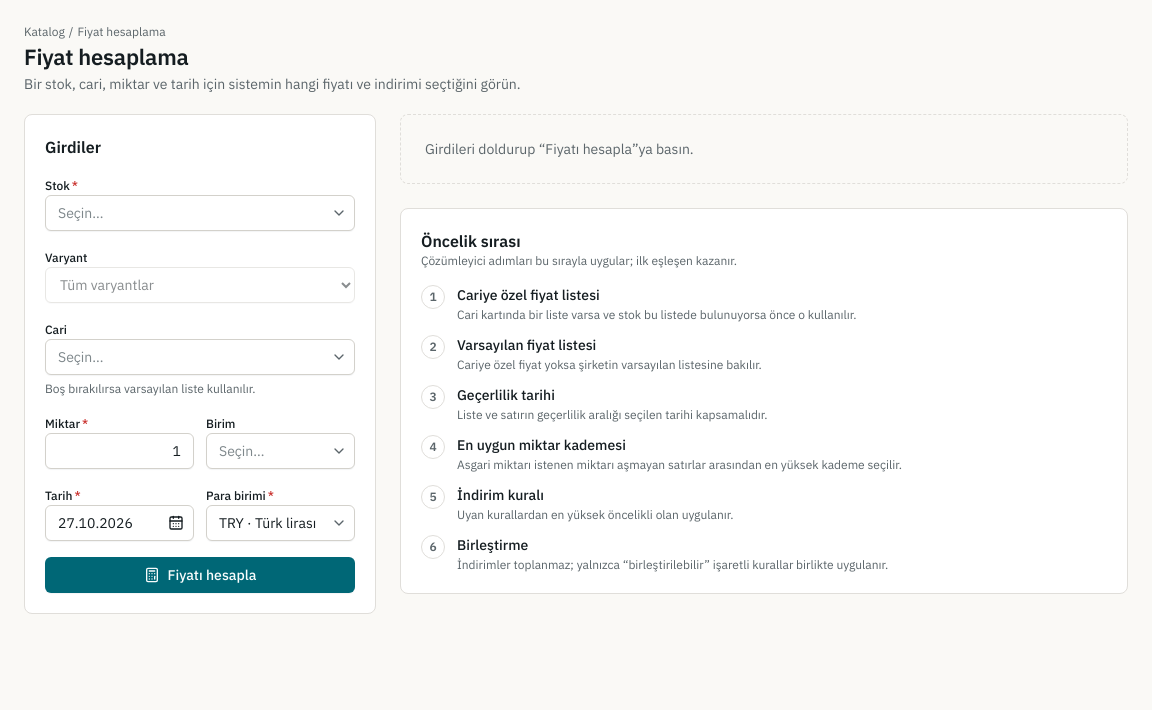
Test: PricingPlaygroundPage › resolves a price and explains the precedence
In the dropdown labelled "Stok*": (200, 213) top-left (45, 195), bottom-right (355, 231), type "Cıvata"
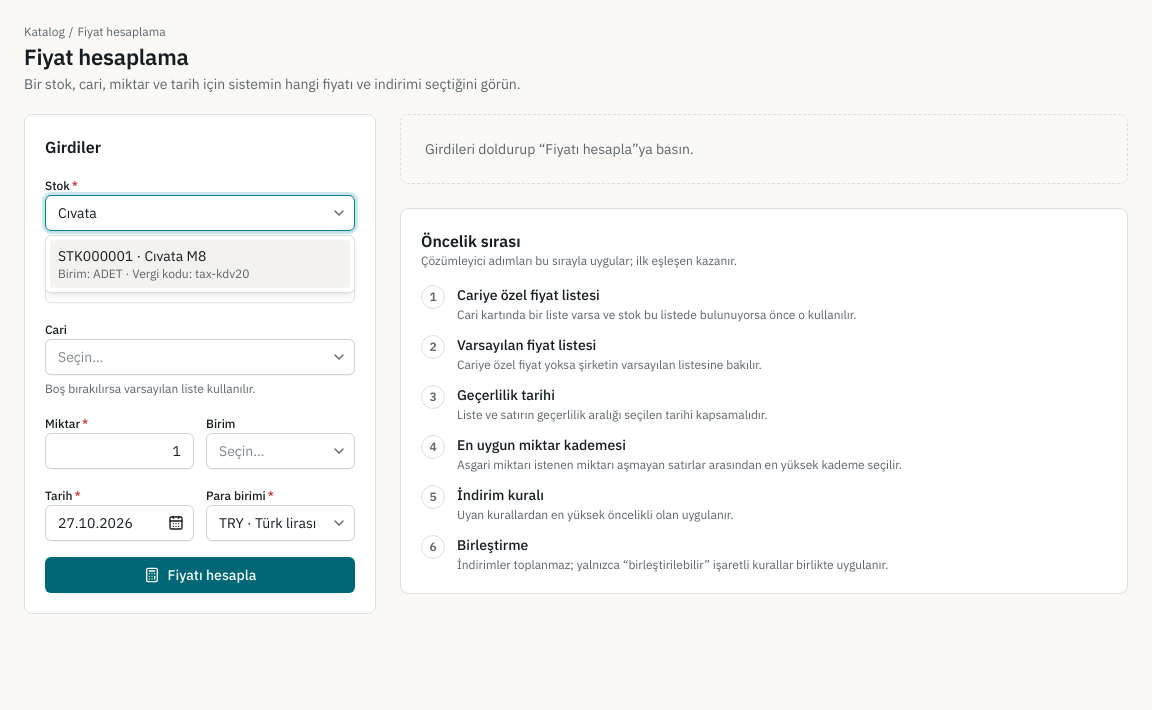
Click the option "STK000001 · Cıvata M8 Birim: ADET · Vergi kodu: tax-kdv20": (200, 264) top-left (50, 240), bottom-right (350, 288)
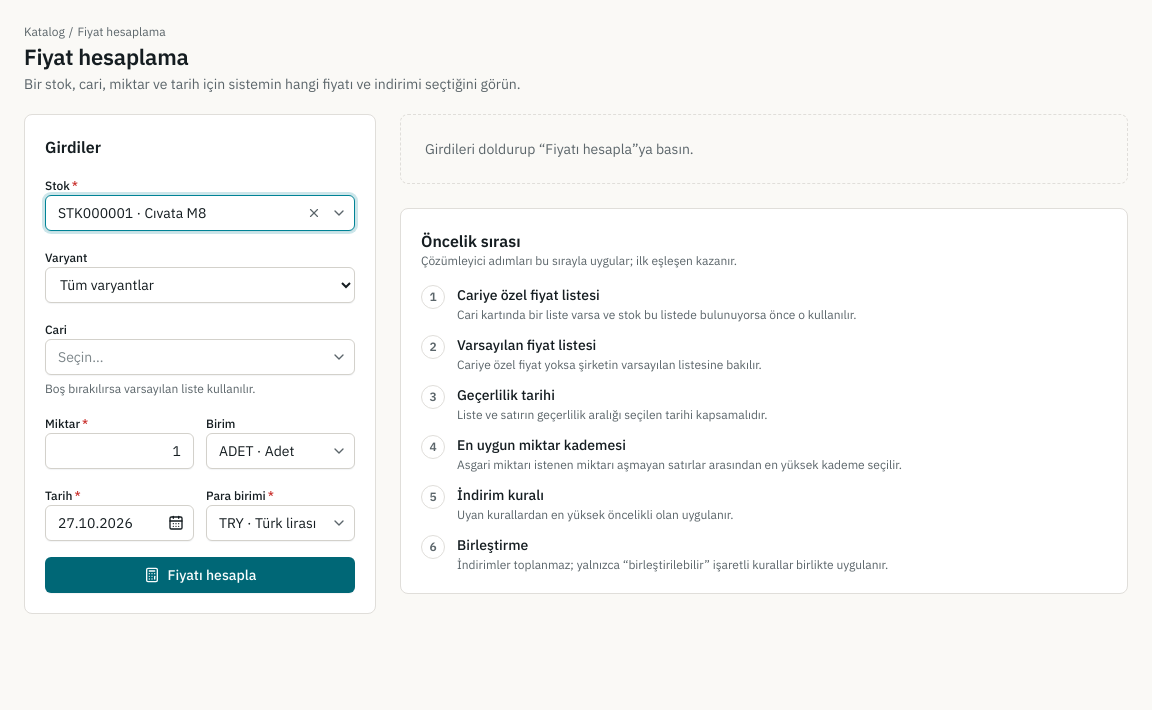
Replace the text in the field labelled "Miktar*" with "120": (120, 451) top-left (45, 433), bottom-right (194, 469)
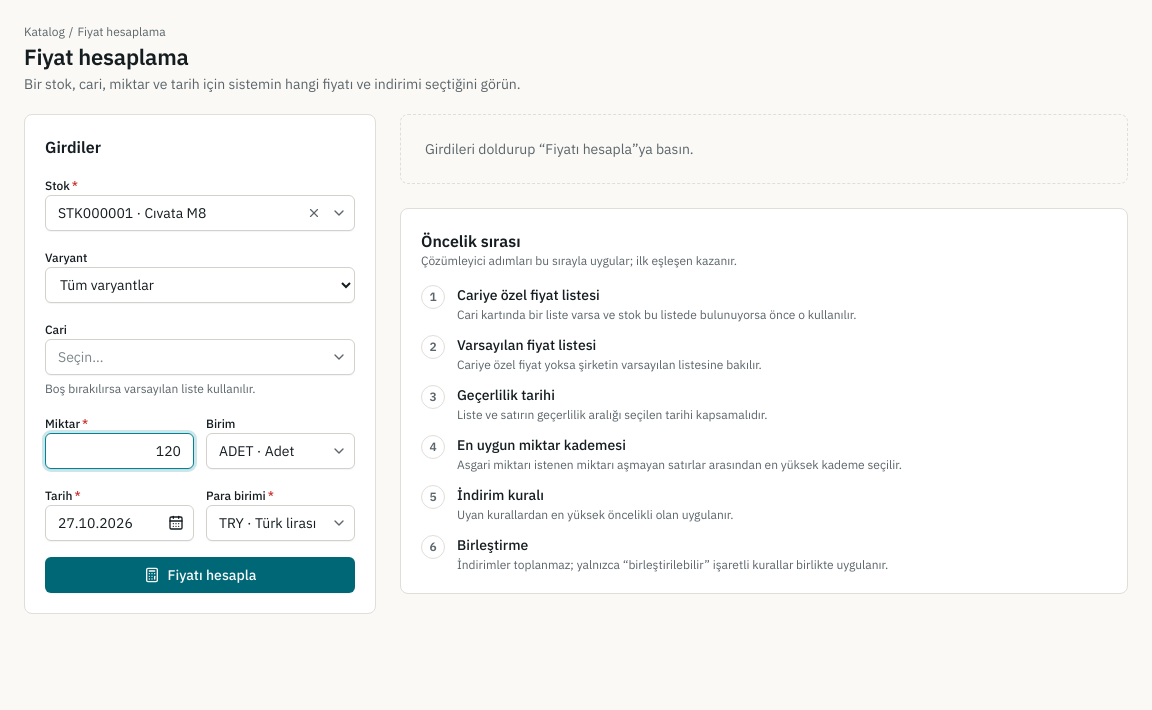
Click the button "Fiyatı hesapla": (200, 575) top-left (45, 557), bottom-right (355, 593)
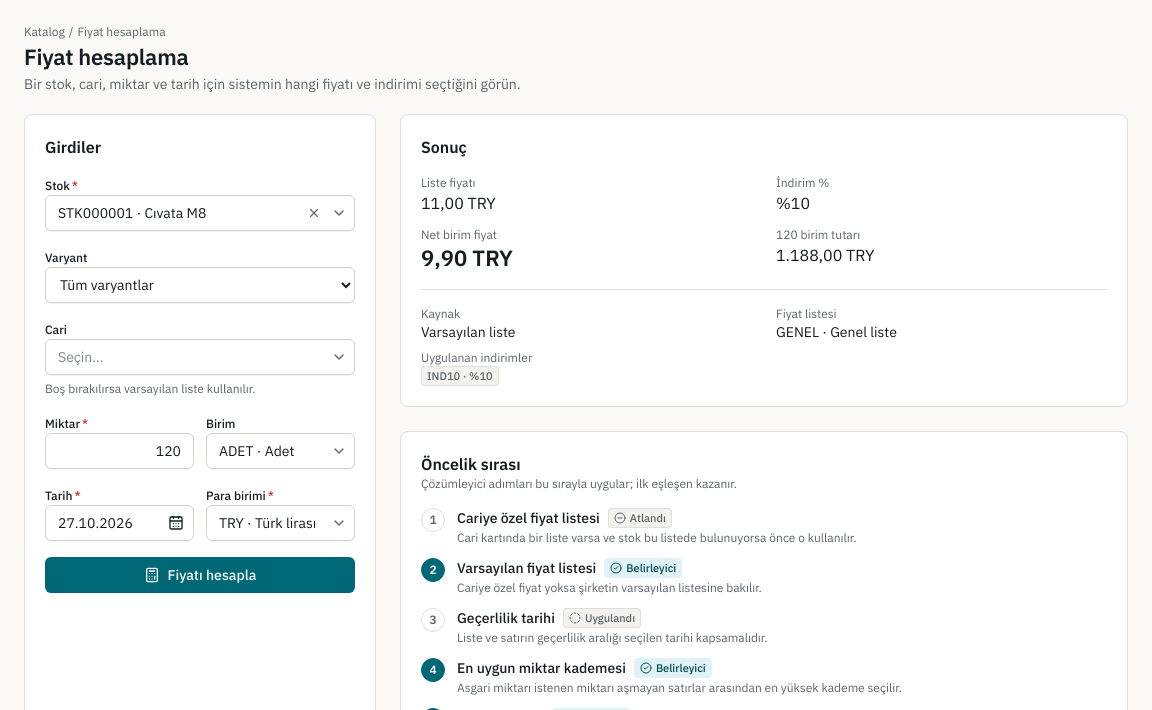
Result: the text "11,00 TRY" is shown at top-left (421, 193), bottom-right (496, 213)
Result: the text "%10" is shown at top-left (776, 193), bottom-right (810, 213)
Result: the text "9,90 TRY" is shown at top-left (421, 243), bottom-right (513, 272)
